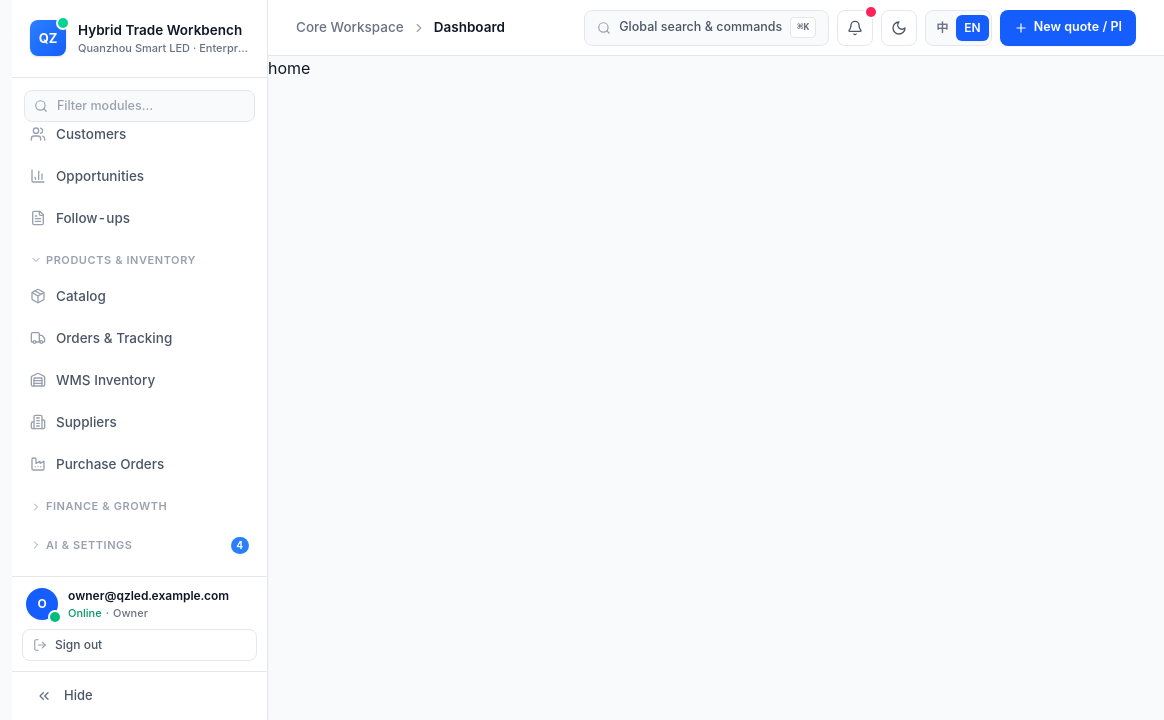
Test: AppShell streamlined sidebar and Ctrl+K › raises a rose pending-proposals badge on the collapsed AI & Settings header
The width and height of the screenshot is (1164, 720).
(page scrolled)
Check: the text with test id "sidebar-group-pending-badge" reads "4", box [236, 539, 243, 551]
Click the button with test id "nav-section-toggle-ai_system" at (140, 545), box [20, 533, 259, 558]
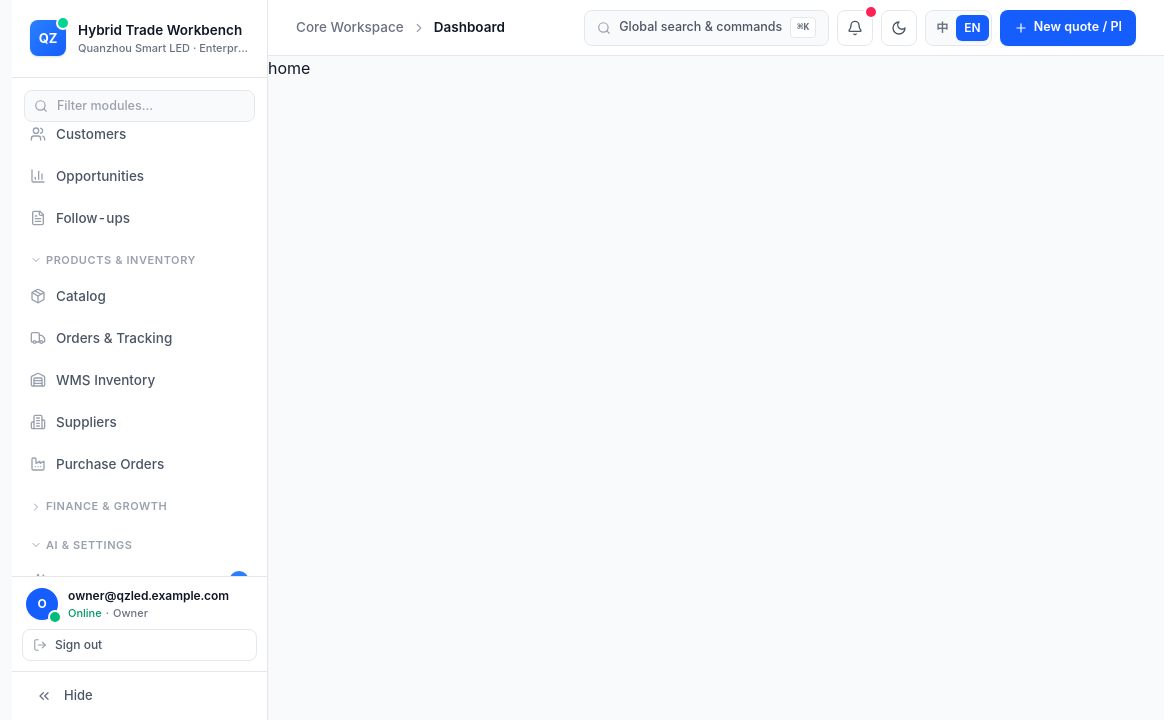
Check: the text with test id "sidebar-group-pending-badge" is gone
